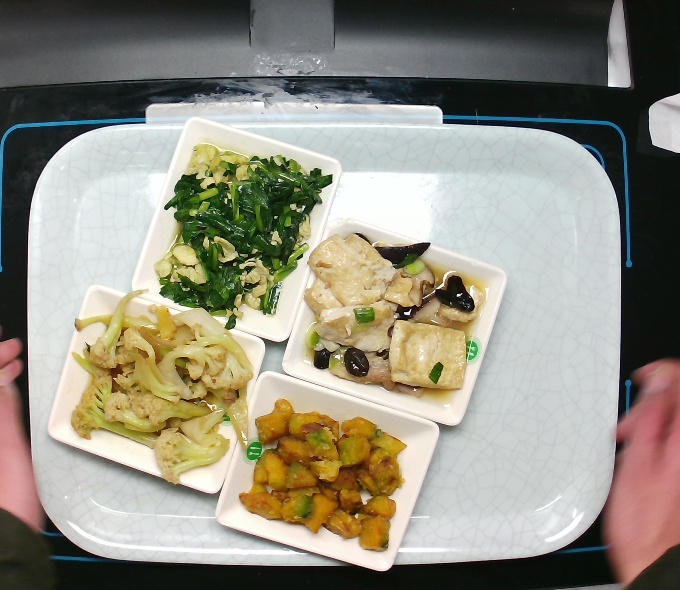wcq-DanHuangNanGua: (238, 400, 422, 557)
wcq-JiaChangDouFu: (299, 212, 480, 422)
wcq-JiuCaiJiDan: (155, 139, 336, 324)
wcq-QiuCai: (58, 284, 256, 482)
